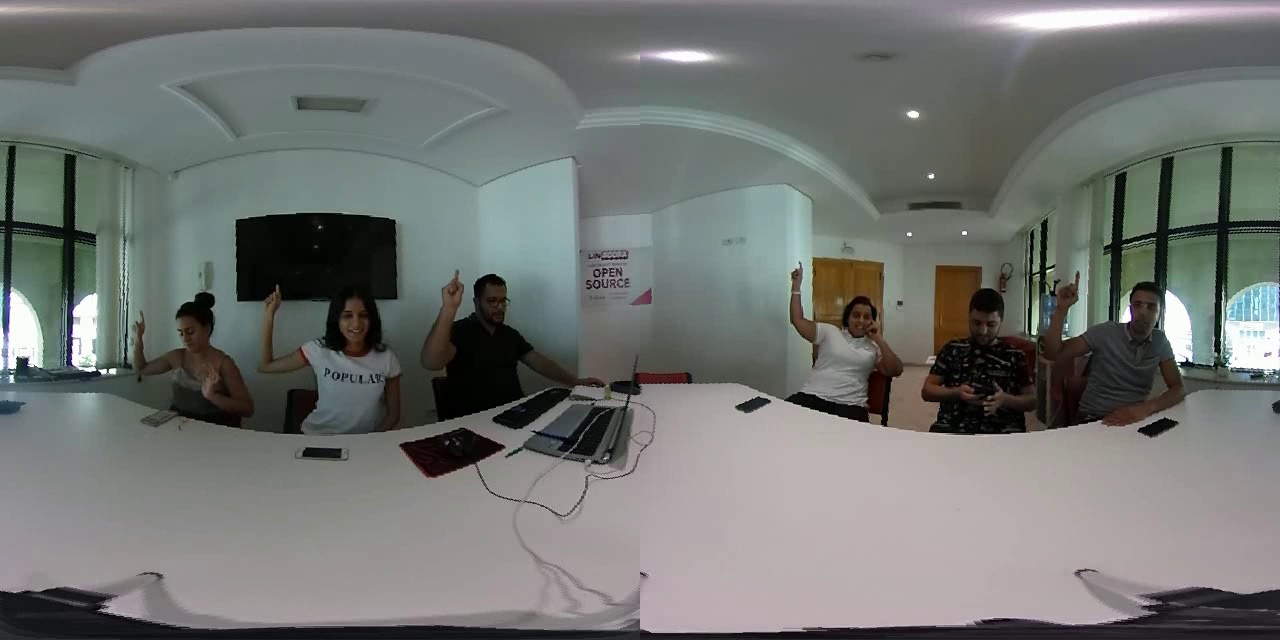person: (1040, 261, 1191, 452), (253, 274, 406, 444), (776, 253, 911, 434), (414, 253, 546, 425), (119, 277, 251, 434), (916, 281, 1038, 445)
speaking: (415, 259, 468, 387), (1046, 261, 1095, 369), (777, 252, 821, 363), (252, 272, 291, 386), (124, 294, 159, 389)
